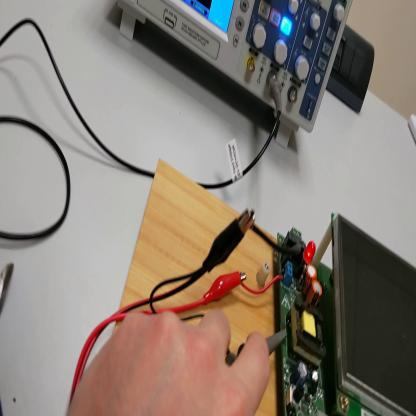hand: (72, 312, 275, 416)
low voltage board: (240, 215, 416, 416)
oscilloscope: (117, 3, 355, 148)
oscilloscope probe tip: (224, 328, 287, 369)
pliers: (2, 257, 15, 312)
working area: (114, 159, 279, 415)
